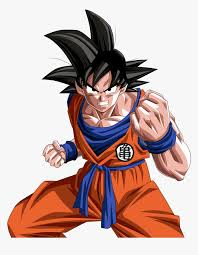Songoku: (71, 46, 136, 115)
